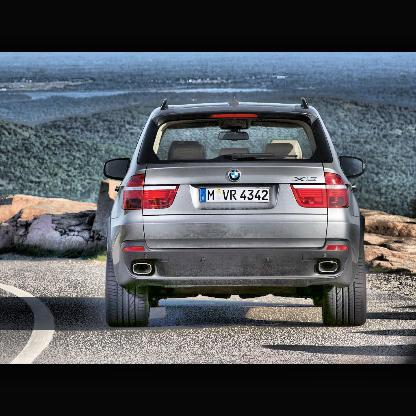BMW X5 SUV 2007: (86, 86, 384, 350)
